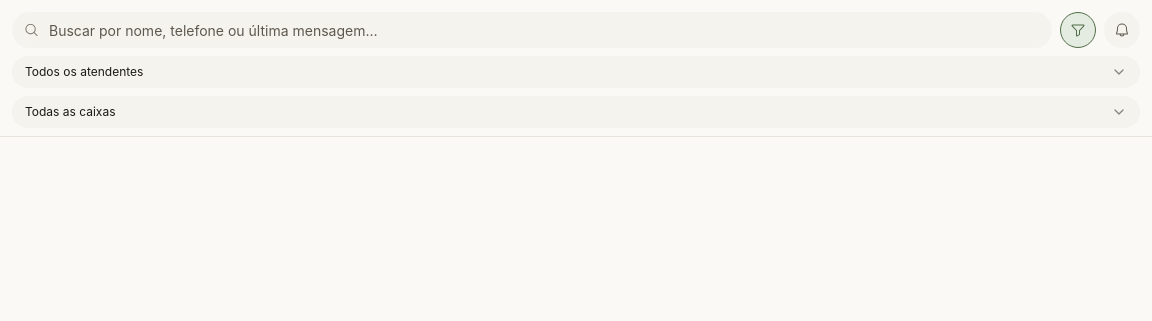
Test case: o seletor de CAIXA DE ENTRADA › ⭐ mostra cada meio; os números aparecem só no meio que tem mais de um
Step 1. Click the dropdown named "Filtrar por caixa de entrada" → point(70, 112), box [12, 96, 1140, 128]
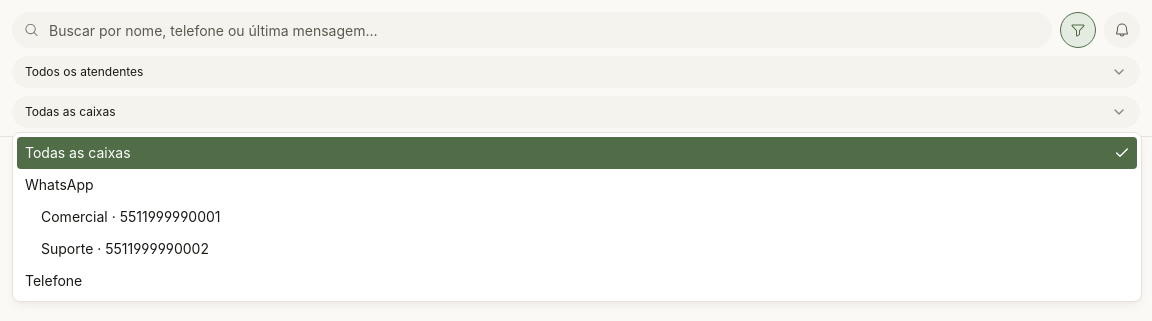
expect the text "WhatsApp" is shown: met, box [25, 175, 94, 195]
expect the text "Telefone" is shown: met, box [25, 271, 82, 291]
expect the text "Comercial · 5511999990001" is shown: met, box [41, 207, 220, 227]
